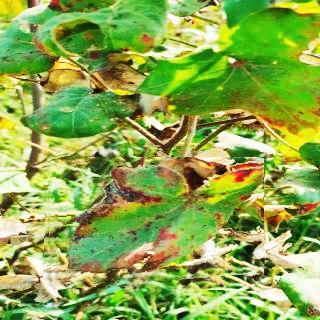blight: (44, 157, 264, 290)
